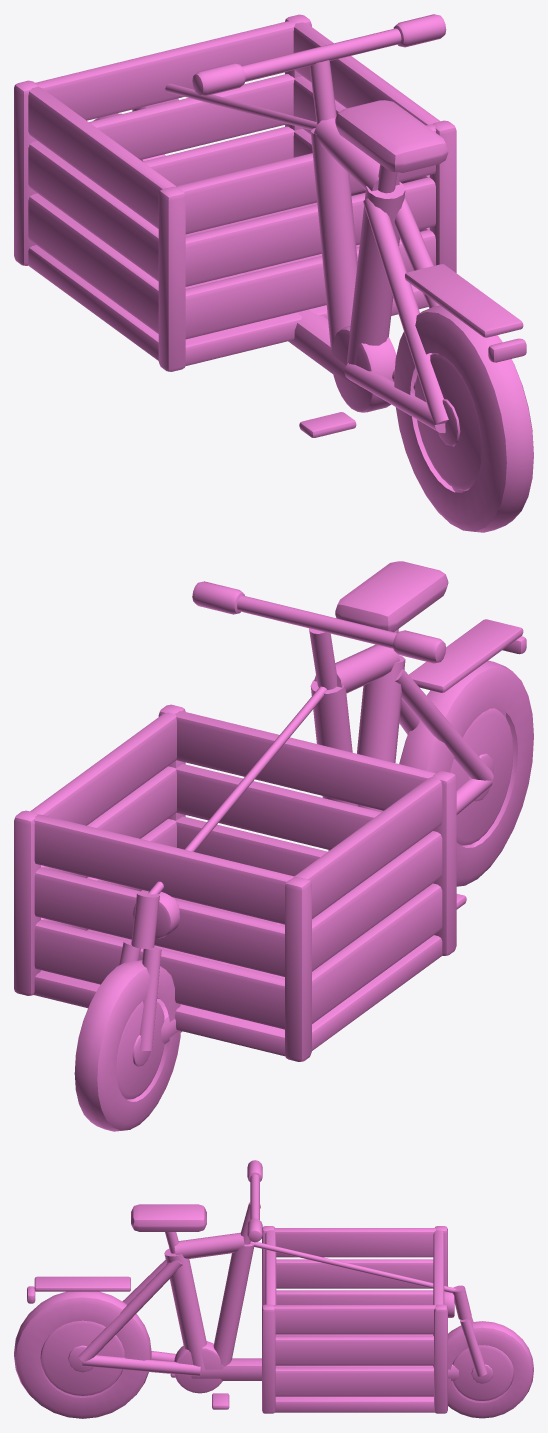
File: Vehicle_CargoBike.fbx
3 renders of one model, top to bottom at view 1: azimuth 30°, elevation 25°; view 2: azimuth 150°, elevation 25°; view 3: azimuth 270°, elevation 25°, orthographic. The views are drawn at different scales.
Visible parts, largest first — view 1: Body, Paint, RearWheel; view 2: Body, Paint, RearWheel, FrontWheel; view 3: Body, RearWheel, Paint, FrontWheel.
Boxes of the visible parts, x1,y1,x2,y2 form: Body: (14, 14, 526, 437); Paint: (190, 118, 523, 433); RearWheel: (394, 305, 533, 532); Body: (14, 561, 526, 1061); Paint: (160, 619, 523, 1044); RearWheel: (399, 660, 533, 886); FrontWheel: (74, 960, 180, 1131); Body: (27, 1160, 487, 1413); RearWheel: (14, 1291, 151, 1418); Paint: (34, 1232, 458, 1380); FrontWheel: (448, 1321, 533, 1418).
Bounding box in the file's own units: 2.9 × 3.56 × 7.55.
1 material, 1 textured.
